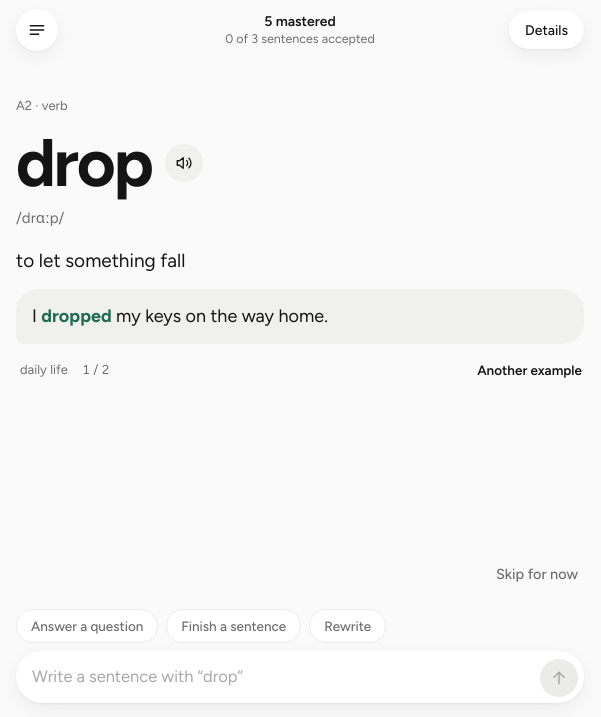
Study › explains when the sentence is turned away for copying the example
The image size is (601, 717).
Type "I dropped my keys on the way home." into the text box named "Your sentence" at point(283, 677), box [32,657,534,697]
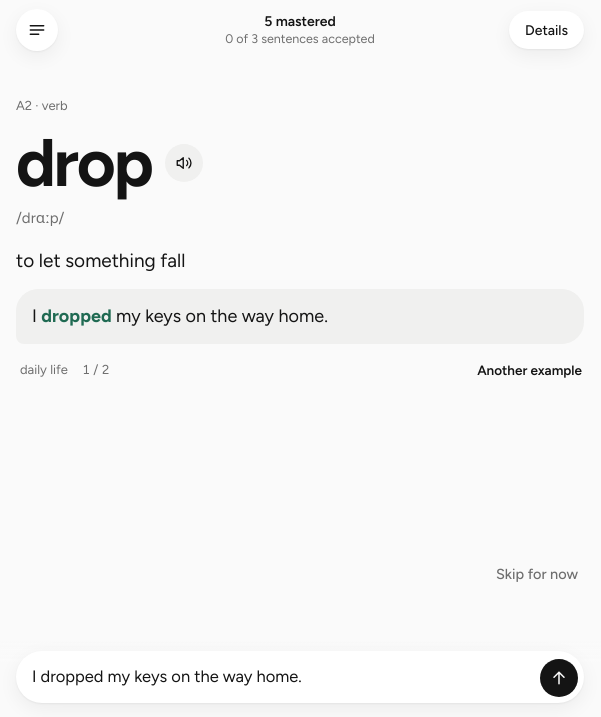
Click the button named "Check my sentence" at point(559, 678), box [540,659,578,697]
(page scrolled)
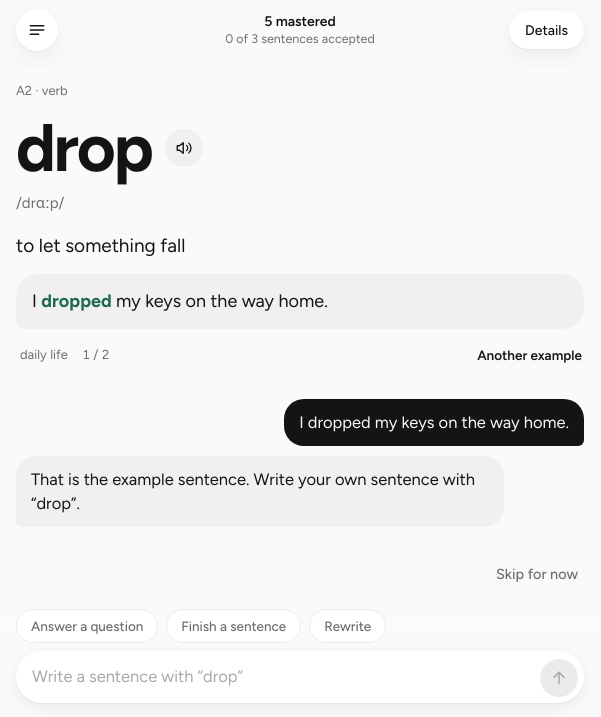
Now the text "That is the example sentence. Write your own sentence with “drop”." is shown, box [31,466,490,516]
Now the text box named "Your sentence" is empty, box [32,657,534,697]
